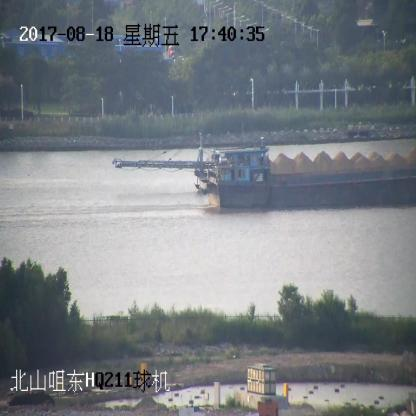Bulk Carrier: (201, 152, 416, 210)
